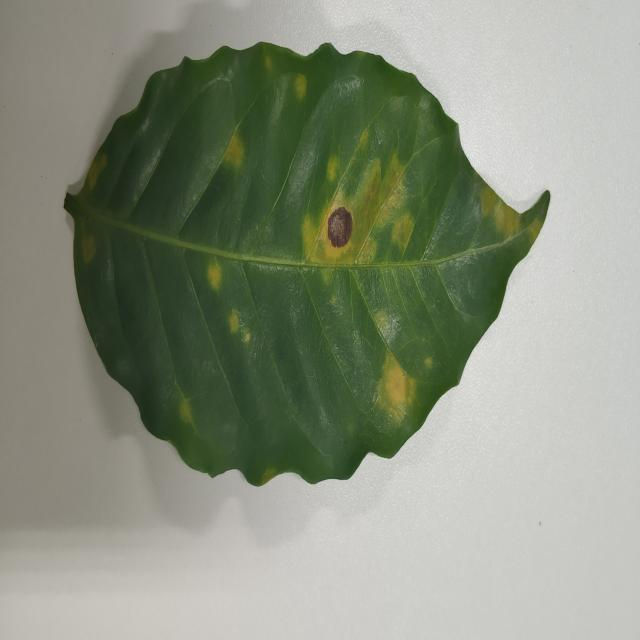Enfermedad-Roya: (63, 43, 552, 490)
